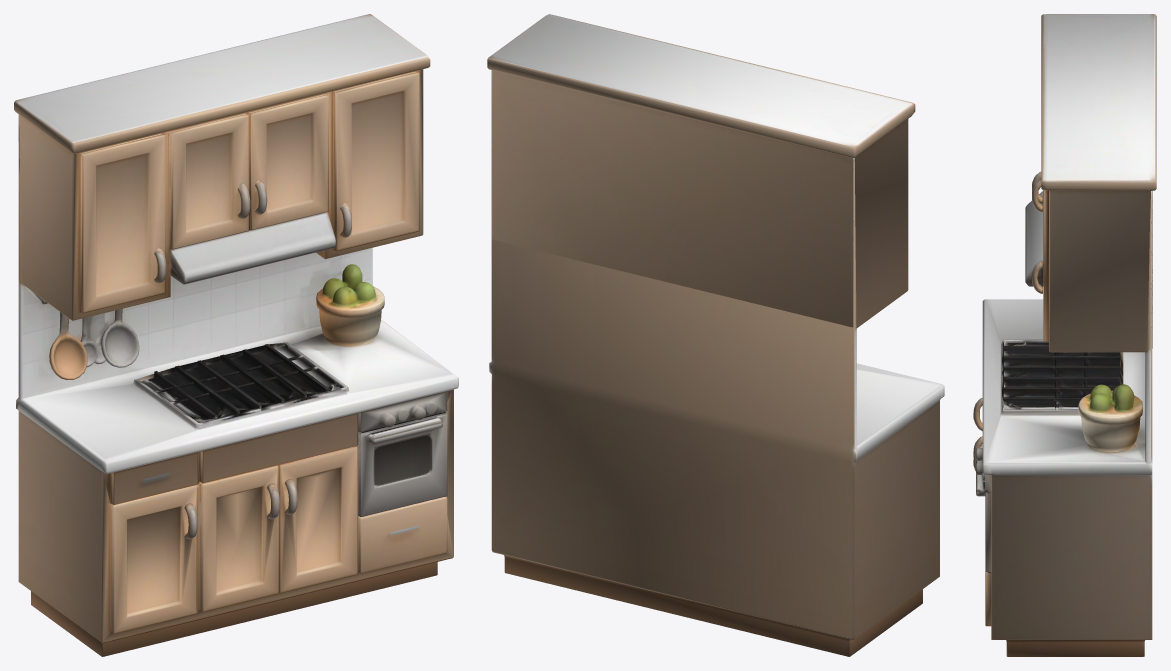
The model's file is kitchen_cabinet_everyday_realistic_style_8368dfee_v2.glb.
The picture shows the model from 3 angles, left to right: view 1: azimuth 30°, elevation 25°; view 2: azimuth 150°, elevation 25°; view 3: azimuth 270°, elevation 25°; orthographic projection. The views are drawn at different scales.
Parts seen in each view (by area): view 1: mesh_input; view 2: mesh_input; view 3: mesh_input.
Part boxes in pixels (x1=…): mesh_input: x1=14, y1=14, x2=458, y2=656; mesh_input: x1=487, y1=14, x2=944, y2=656; mesh_input: x1=973, y1=14, x2=1156, y2=656.
Bounding box in the file's own units: 1.41 × 1.9 × 0.6543.
Materials: 1 (1 with a texture image).
